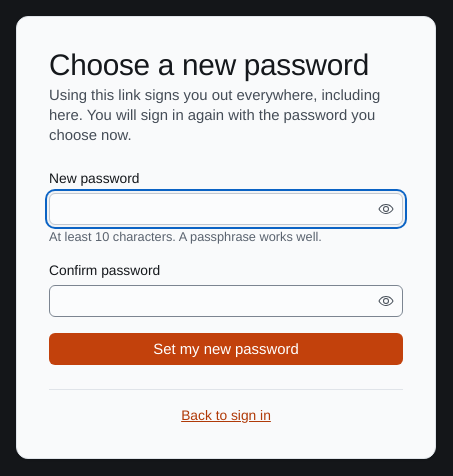
Scenario: ResetPasswordPage › shows a server password rule against the field
In the password field labelled "New password": (212, 209) [50,194,374,224], type "analytical-engine-1843"
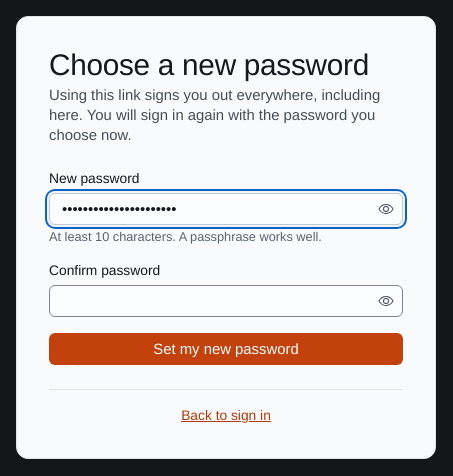
In the password field labelled "Confirm password": (212, 301) [50,286,374,316], type "analytical-engine-1843"
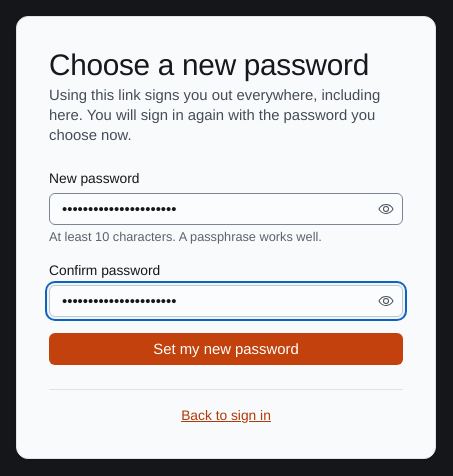
Click the button "Set my new password": (226, 349) [49,333,403,365]
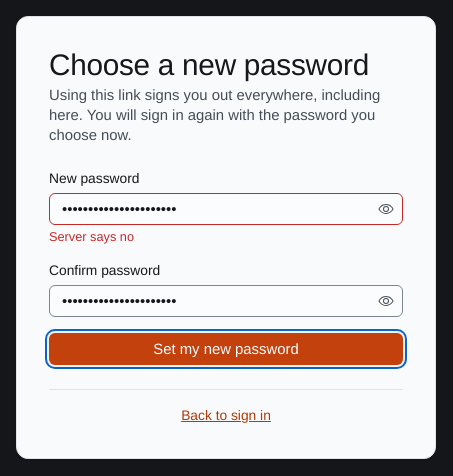
Check: the text "Server says no" is shown, box [49,229,134,245]
